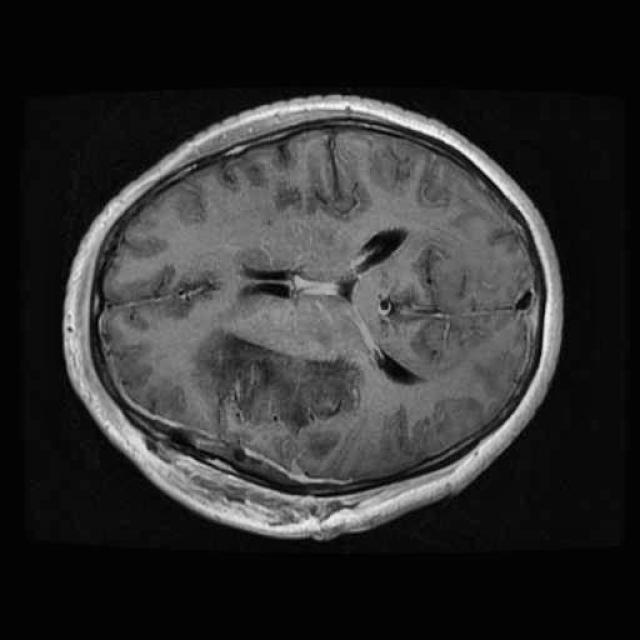Tumor: (184, 310, 374, 452)
